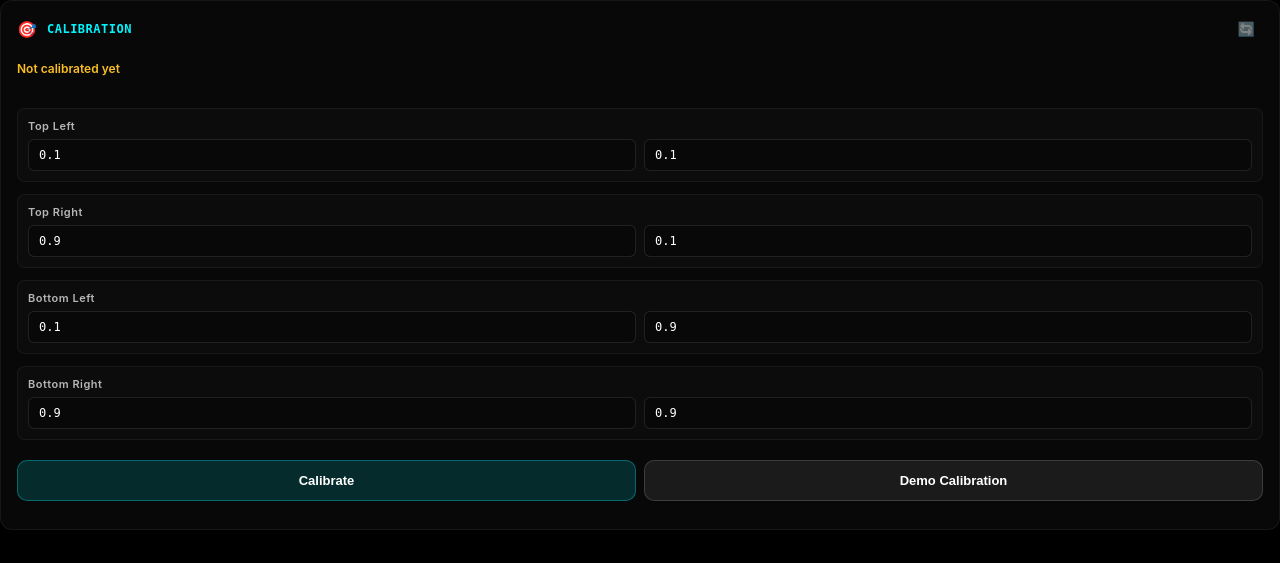
Scenario: CalibrationPanel › should successfully submit calibration and update UI
Check: the text "Not calibrated yet" is shown, box [17,61,120,76]
// Find and click the "Calibrate" button
Click the button "Calibrate" at (326, 480), box [17,460,636,501]
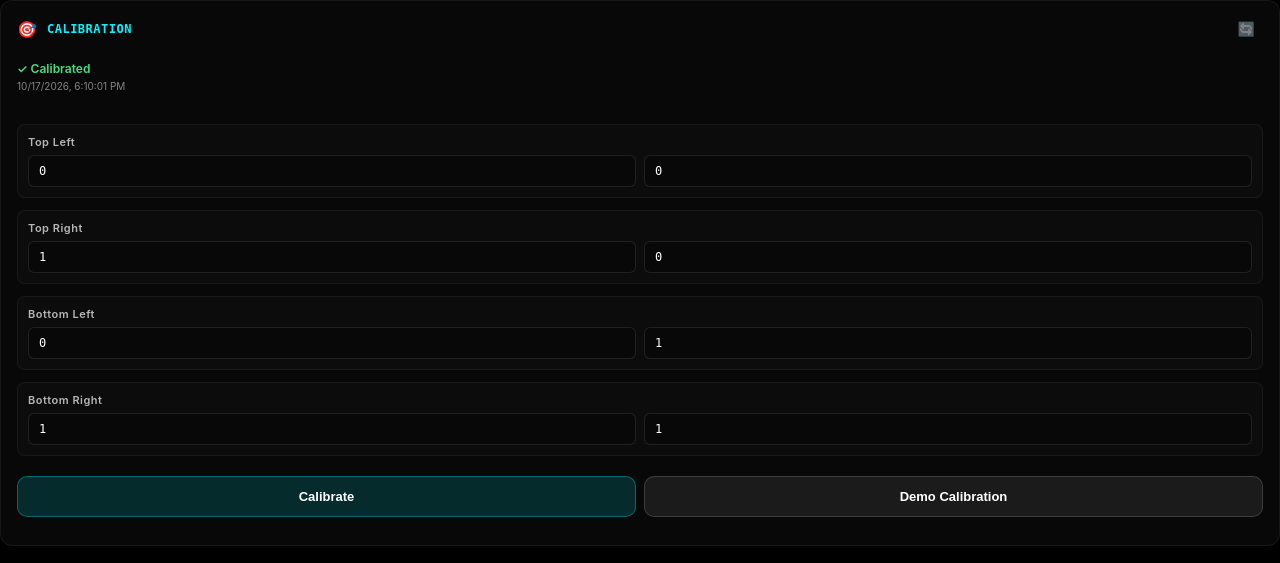
Check: the text "✓ Calibrated" is shown, box [17,61,90,76]
